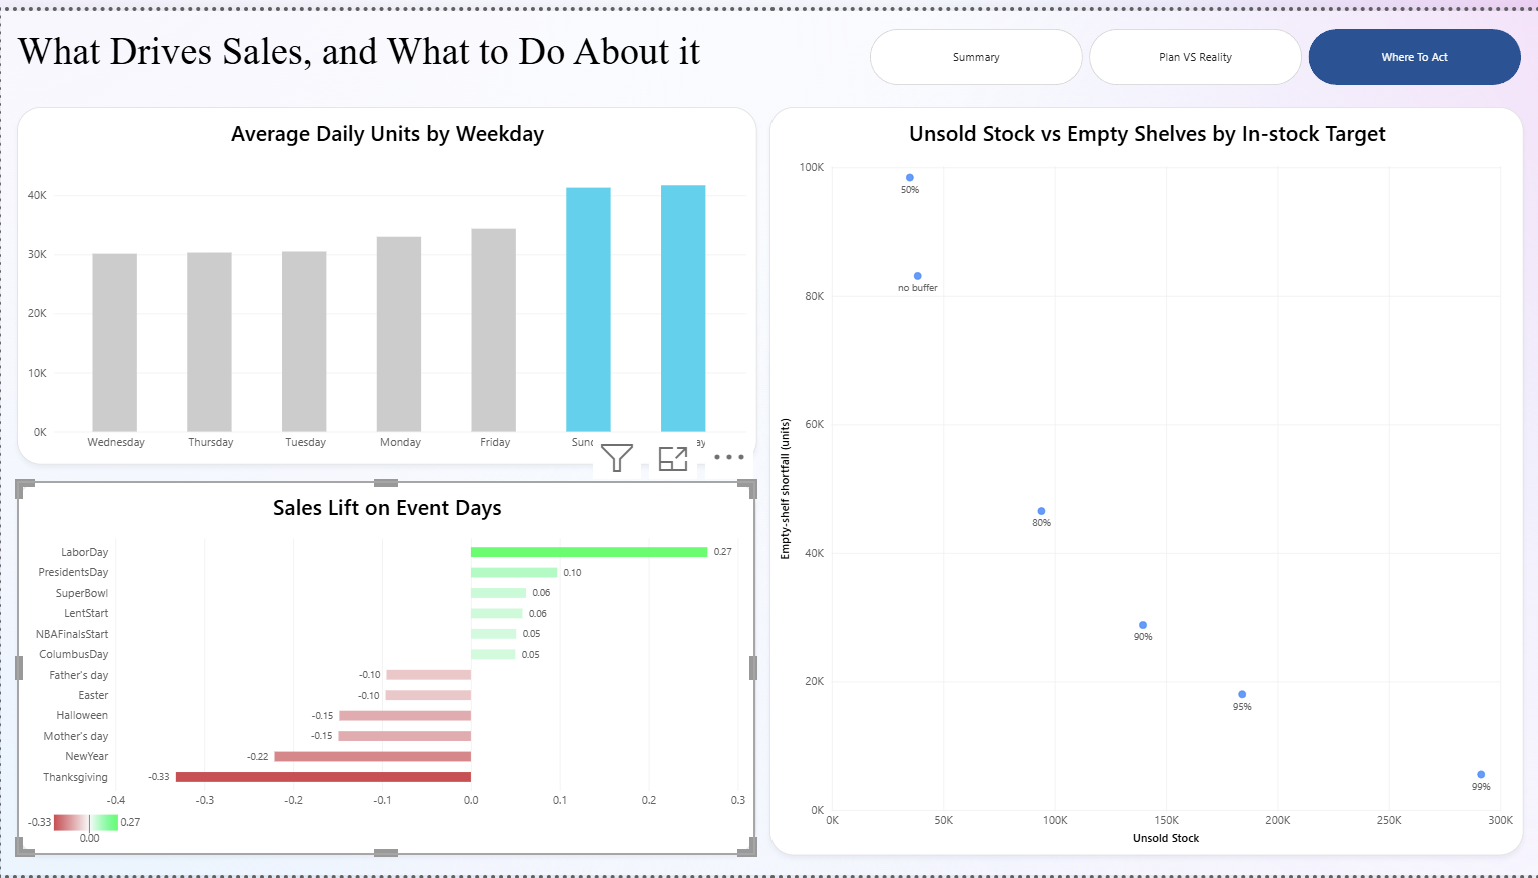

What the dashboard file says about the page in this screenshot:
{"tool":"powerbi","page":{"name":"Where To Act","canvas":[1920,1080],"ordinal":2},"visuals":[{"type":"clusteredColumnChart","title":"Average Daily Units by Weekday","fields":{"Category":["weekday.weekday"],"Y":["Sum(weekday.avg_units_per_day)"]},"box":[19.8,118.8,924.7,446.8],"z":3},{"type":"clusteredBarChart","title":"Sales Lift on Event Days","fields":{"Category":["events.event"],"Y":["snap.Event Effect"]},"box":[19.8,587.2,923.7,466.8],"z":5},{"type":"scatterChart","title":" Unsold Stock vs Empty Shelves by In-stock Target","fields":{"Category":["safety.target"],"X":["Sum(safety.units_leftover)"],"Y":["Sum(safety.units_short)"]},"box":[960,118.8,941.9,935.3],"z":6},{"type":"pageNavigator","box":[1085,22.5,815,70],"z":7},{"type":"textbox","box":[20,22,1034,70],"z":8}]}

Visuals, with their boxes in screenshot pixels (x1, y1, x2, y2), scaled from the page's 1920x1080 canvas onto the 1538x878 screenshot:
"Average Daily Units by Weekday" clusteredColumnChart: x1=16 y1=97 x2=757 y2=460
"Sales Lift on Event Days" clusteredBarChart: x1=16 y1=477 x2=756 y2=857
" Unsold Stock vs Empty Shelves by In-stock Target" scatterChart: x1=769 y1=97 x2=1524 y2=857
pageNavigator: x1=869 y1=18 x2=1522 y2=75
textbox: x1=16 y1=18 x2=844 y2=75
